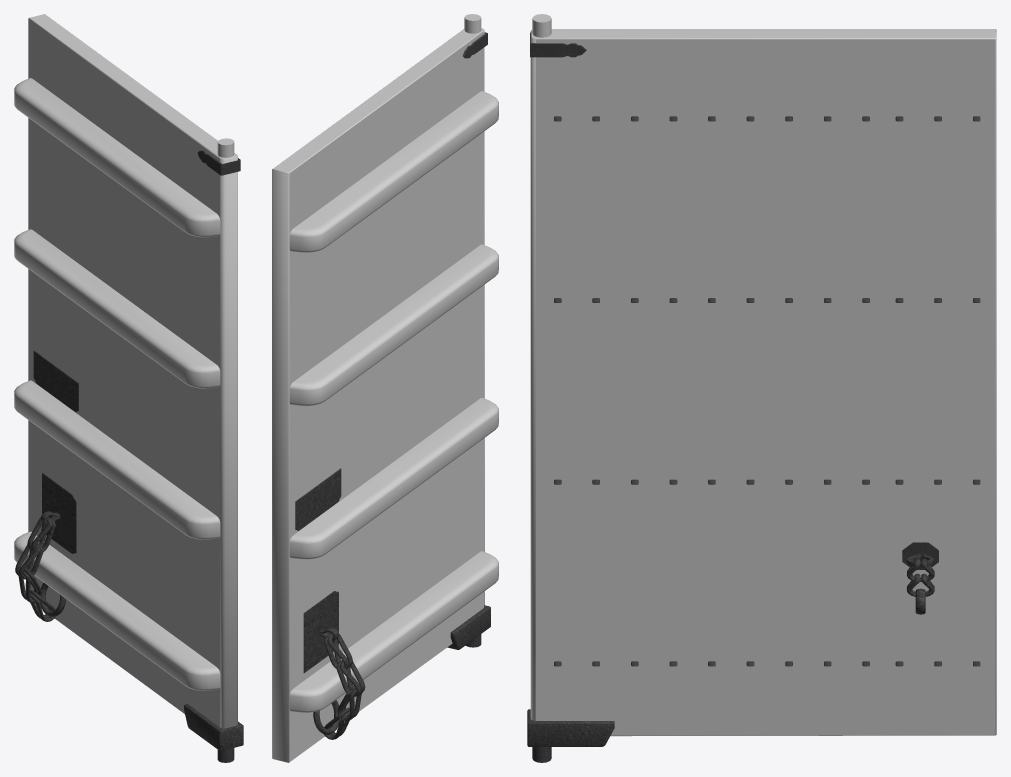
File: SM_SJJ_HG_Door03A_01.fbx
3 renders of one model, left to right at view 1: azimuth 30°, elevation 25°; view 2: azimuth 150°, elevation 25°; view 3: azimuth 270°, elevation 25°, orthographic. The views are drawn at different scales.
Parts seen in each view (by area): view 1: SM_SJJ_HG_Door03A_01; view 2: SM_SJJ_HG_Door03A_01; view 3: SM_SJJ_HG_Door03A_01.
Part boxes in pixels (left/top/right/bottom): SM_SJJ_HG_Door03A_01: left=14, top=14, right=243, bottom=762; SM_SJJ_HG_Door03A_01: left=272, top=14, right=498, bottom=762; SM_SJJ_HG_Door03A_01: left=527, top=14, right=996, bottom=762.
Size of the model in its own units: 25.23 by 105 by 182.
